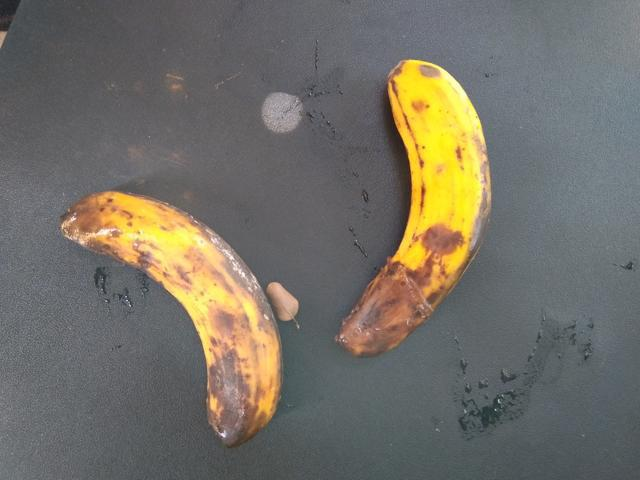rotten: (49, 179, 287, 459), (332, 43, 510, 391)
